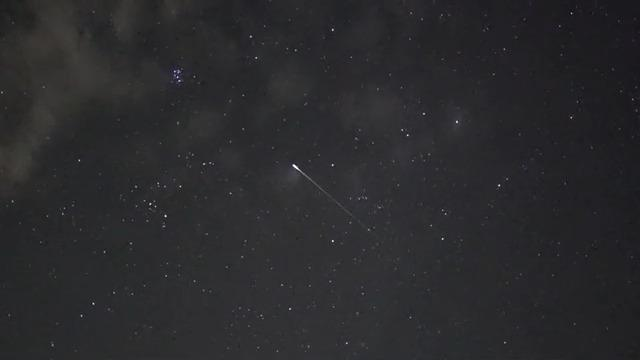meteorite: (276, 155, 377, 235)
